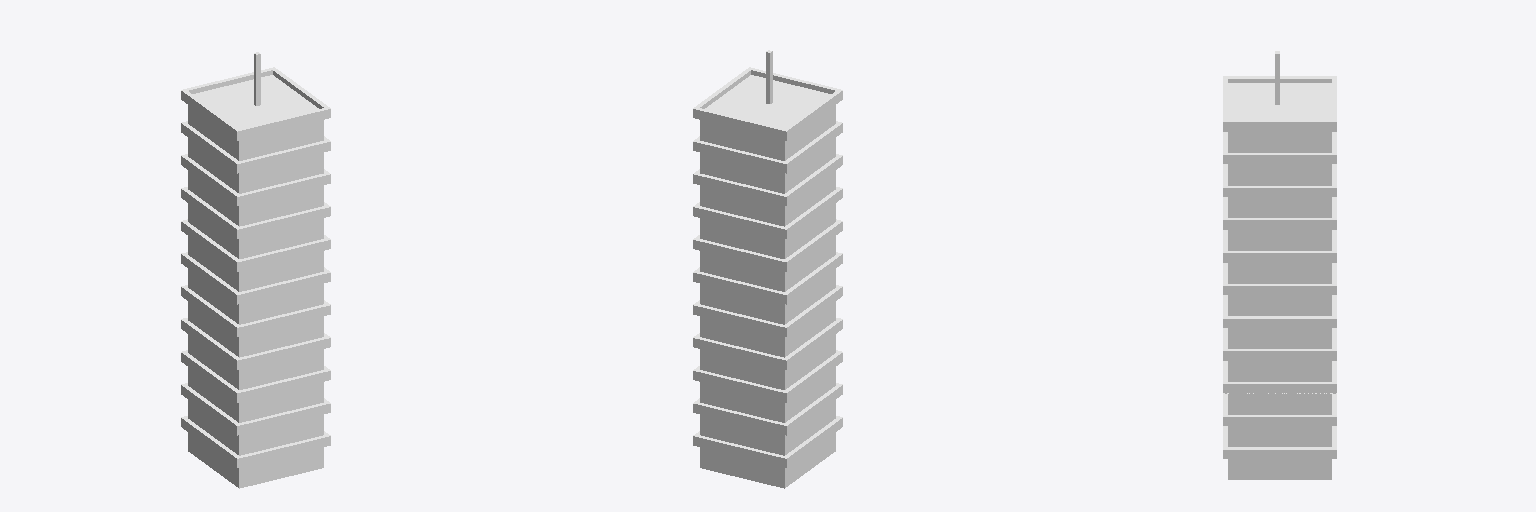
Rendered from ugly+building+2.obj.
3 renders of one model, left to right at view 1: azimuth 30°, elevation 25°; view 2: azimuth 150°, elevation 25°; view 3: azimuth 270°, elevation 25°, orthographic.
Size of the model in its own units: 21 by 87 by 22.